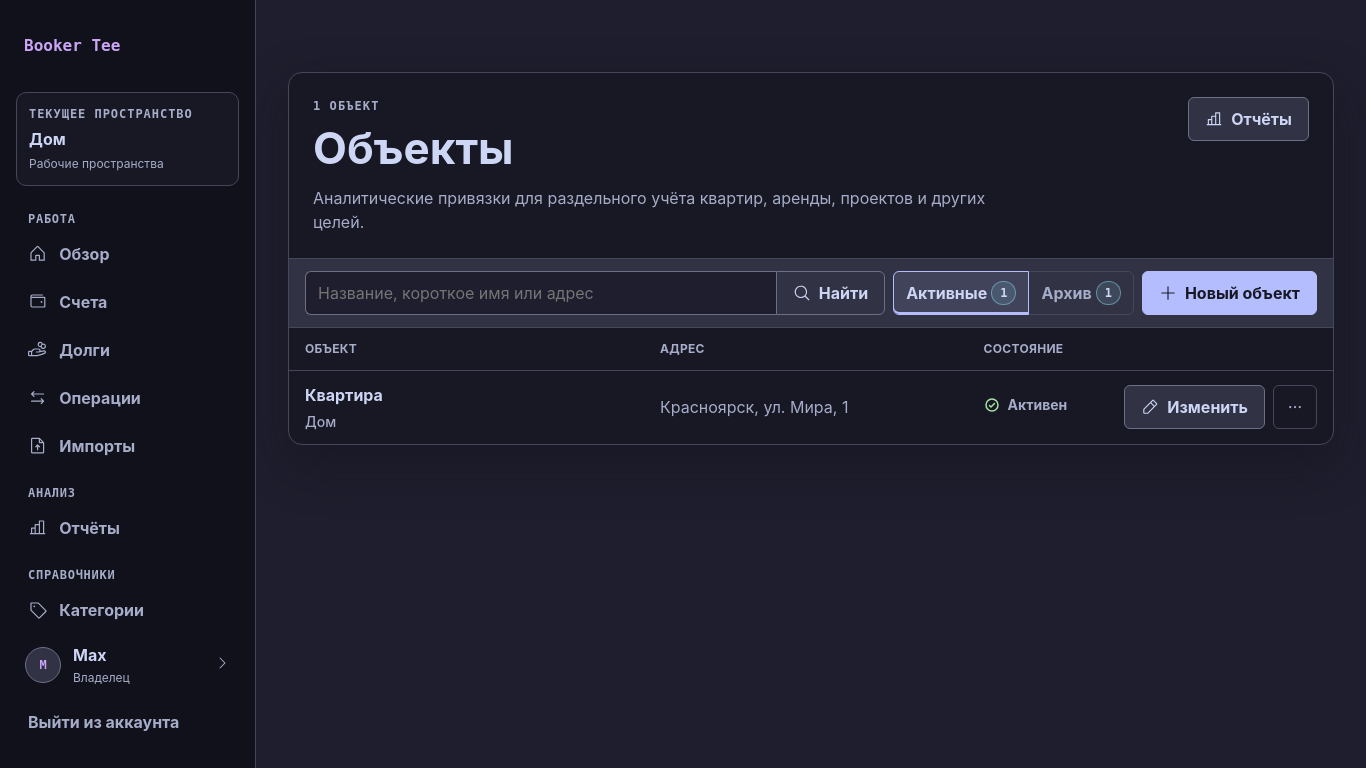
Test: PropertiesPage › searches visible properties and offers one reset path
In the search field named "Поиск по названию, короткому названию или адресу": (540, 293) x1=305 y1=271 x2=776 y2=315, type "офис"
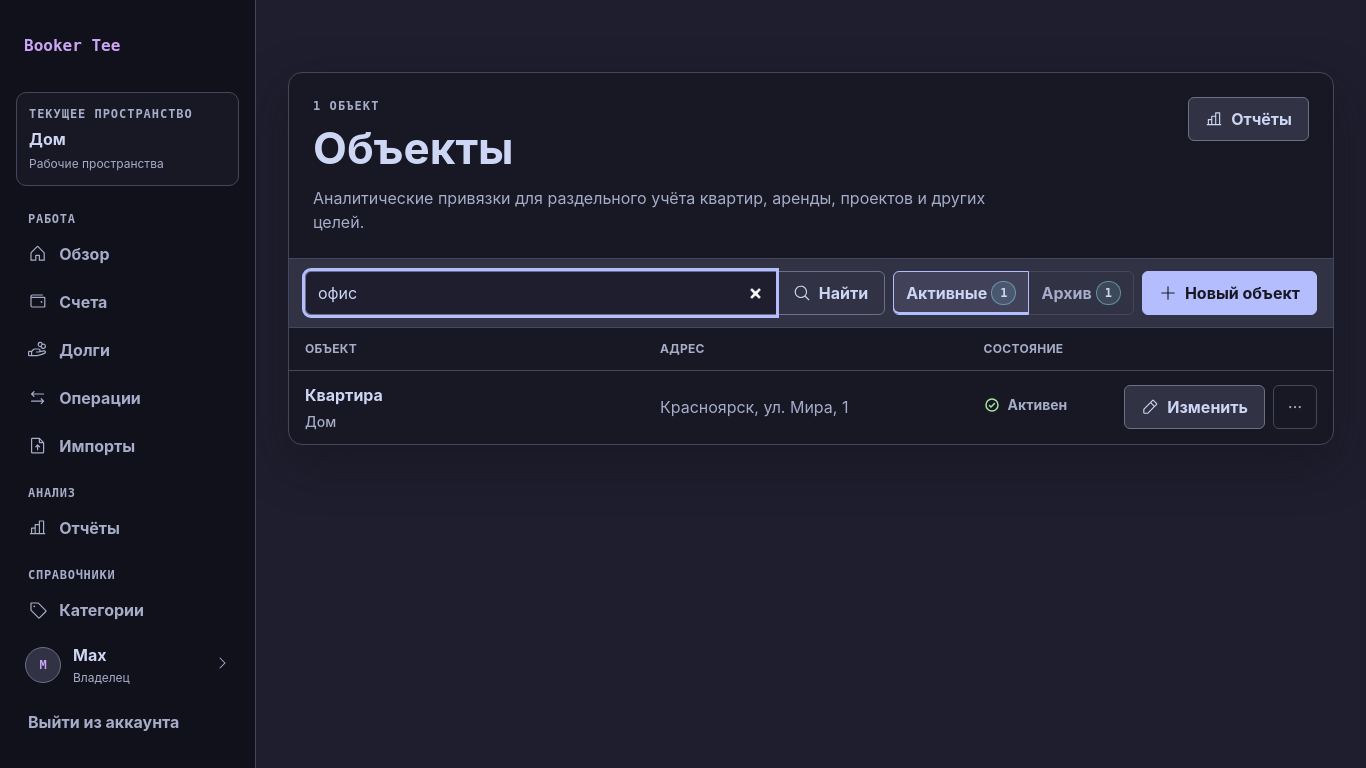
Click the button "Найти": (830, 293) x1=776 y1=271 x2=885 y2=315
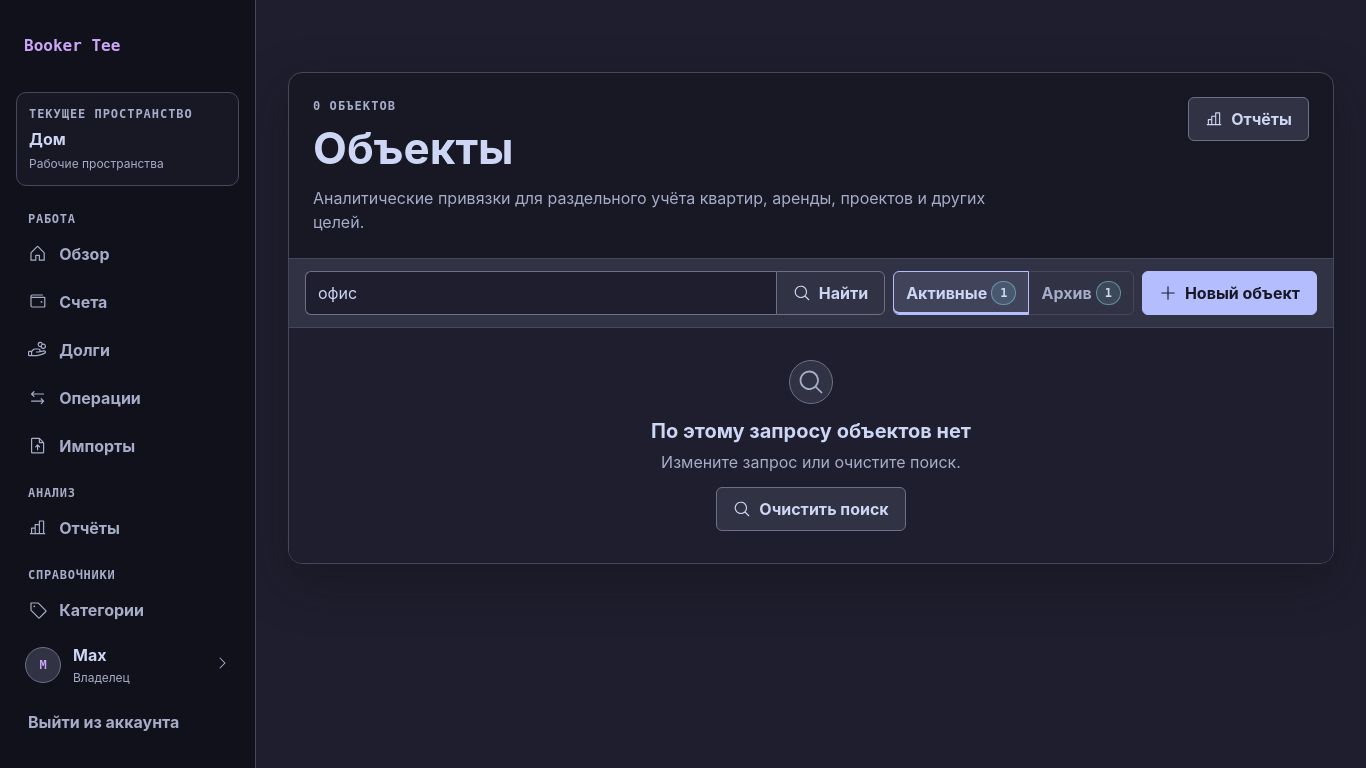
Expected: the heading "По этому запросу объектов нет" is shown, x1=651 y1=416 x2=971 y2=446
Expected: the link "Очистить поиск" is shown, x1=716 y1=487 x2=906 y2=531
